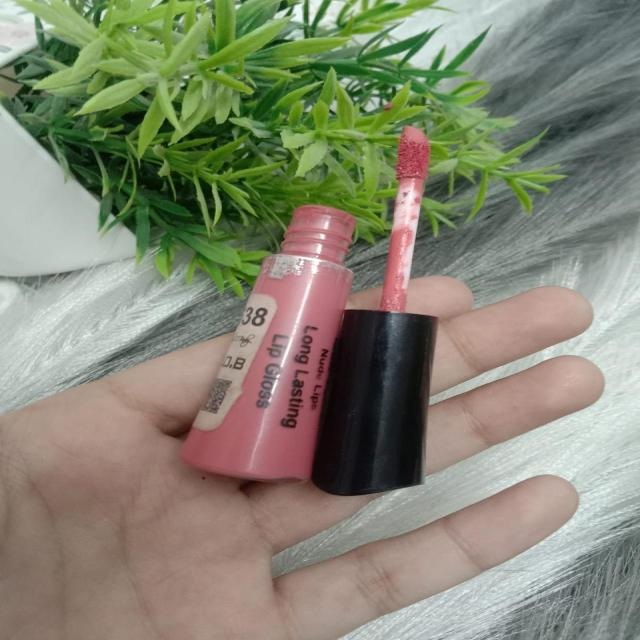lip gloss: (174, 195, 365, 500), (314, 112, 463, 482)
